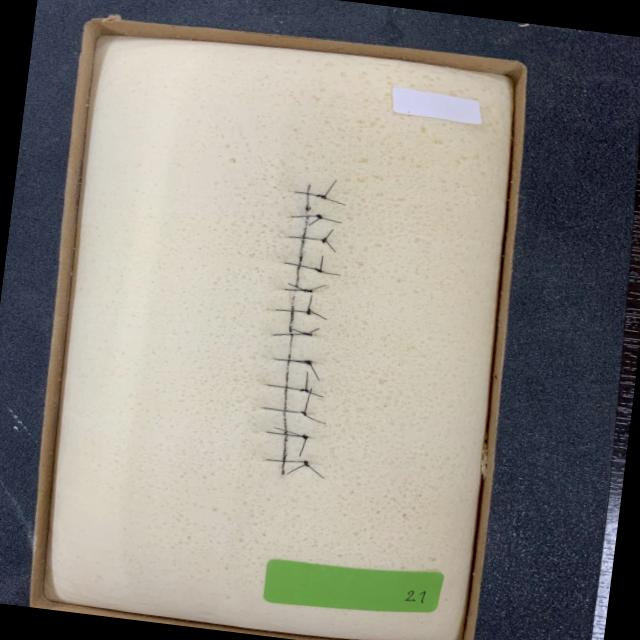knot: (313, 192, 329, 201), (300, 458, 312, 469), (299, 330, 315, 338), (300, 358, 314, 367), (298, 432, 311, 441), (311, 266, 324, 275), (299, 287, 315, 294), (303, 306, 313, 317), (318, 235, 329, 245), (313, 212, 325, 221), (296, 387, 311, 394), (298, 409, 309, 417)
leftover: (273, 426, 302, 437), (305, 464, 325, 479), (322, 178, 337, 198), (307, 360, 320, 381), (302, 387, 312, 414), (285, 463, 307, 475), (303, 413, 326, 424), (324, 196, 346, 206), (308, 309, 327, 320), (323, 238, 336, 252), (298, 437, 307, 457), (286, 282, 305, 291), (320, 216, 342, 223), (307, 283, 326, 291), (307, 216, 322, 226), (306, 390, 324, 398), (320, 270, 341, 276), (290, 327, 306, 334), (305, 327, 320, 334), (307, 294, 313, 310), (324, 228, 333, 238), (318, 254, 323, 271), (304, 370, 308, 391), (291, 360, 310, 364)
stitch: (262, 406, 306, 416), (282, 262, 322, 272), (266, 383, 309, 392), (265, 458, 308, 467), (265, 430, 307, 439), (293, 191, 327, 199), (287, 236, 327, 241), (274, 308, 310, 313), (272, 332, 313, 336), (273, 358, 313, 362), (290, 214, 323, 218), (283, 288, 313, 292)
wound: (281, 184, 311, 475)
